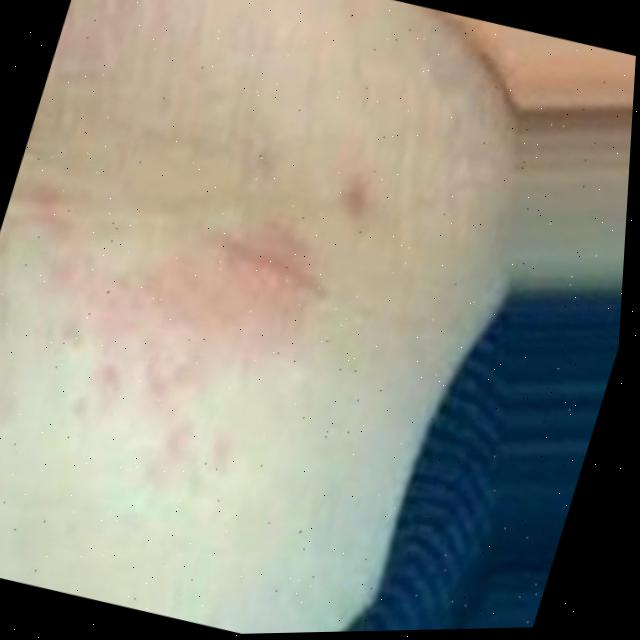Shingles: (0, 166, 342, 518)
